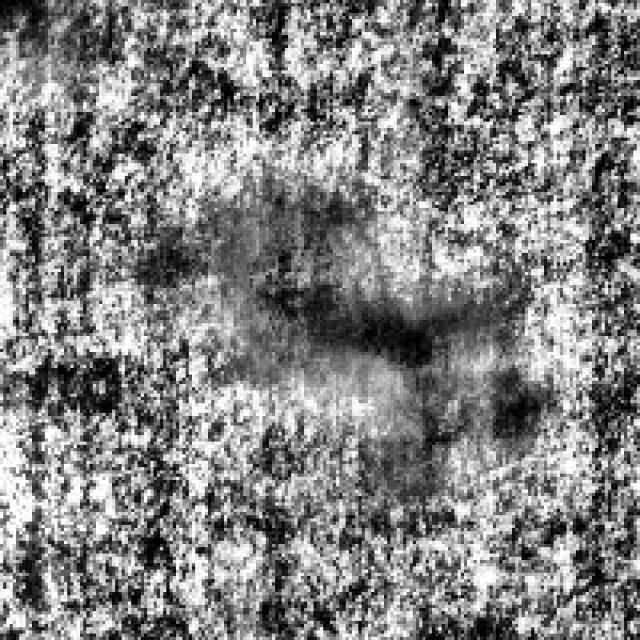Scratches: (246, 224, 477, 403)
